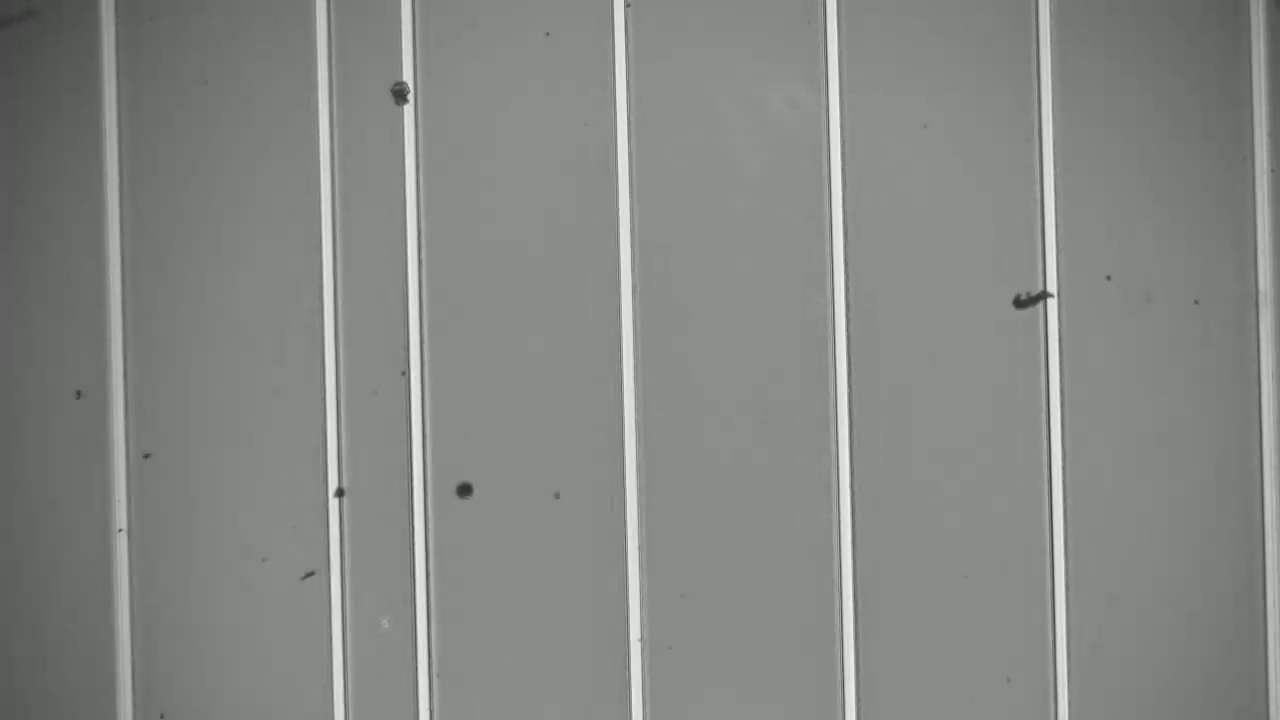stains_enbedded: (384, 70, 423, 112), (319, 477, 356, 504)
